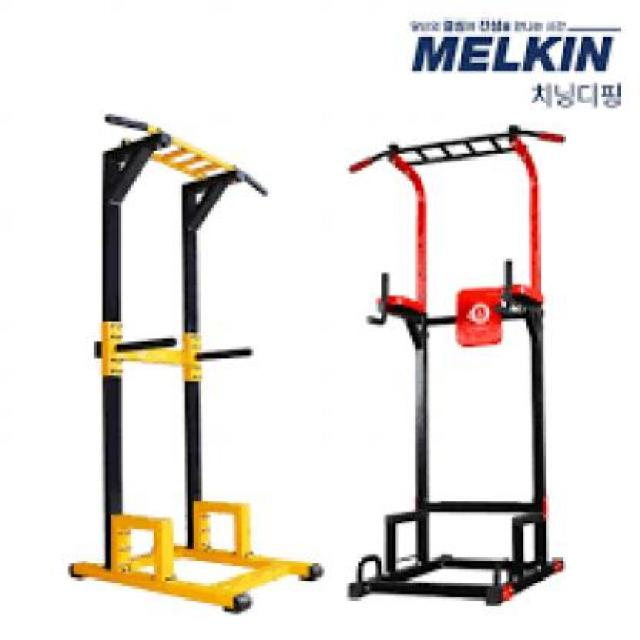chinning dipping: (66, 111, 326, 615), (348, 122, 568, 606)
